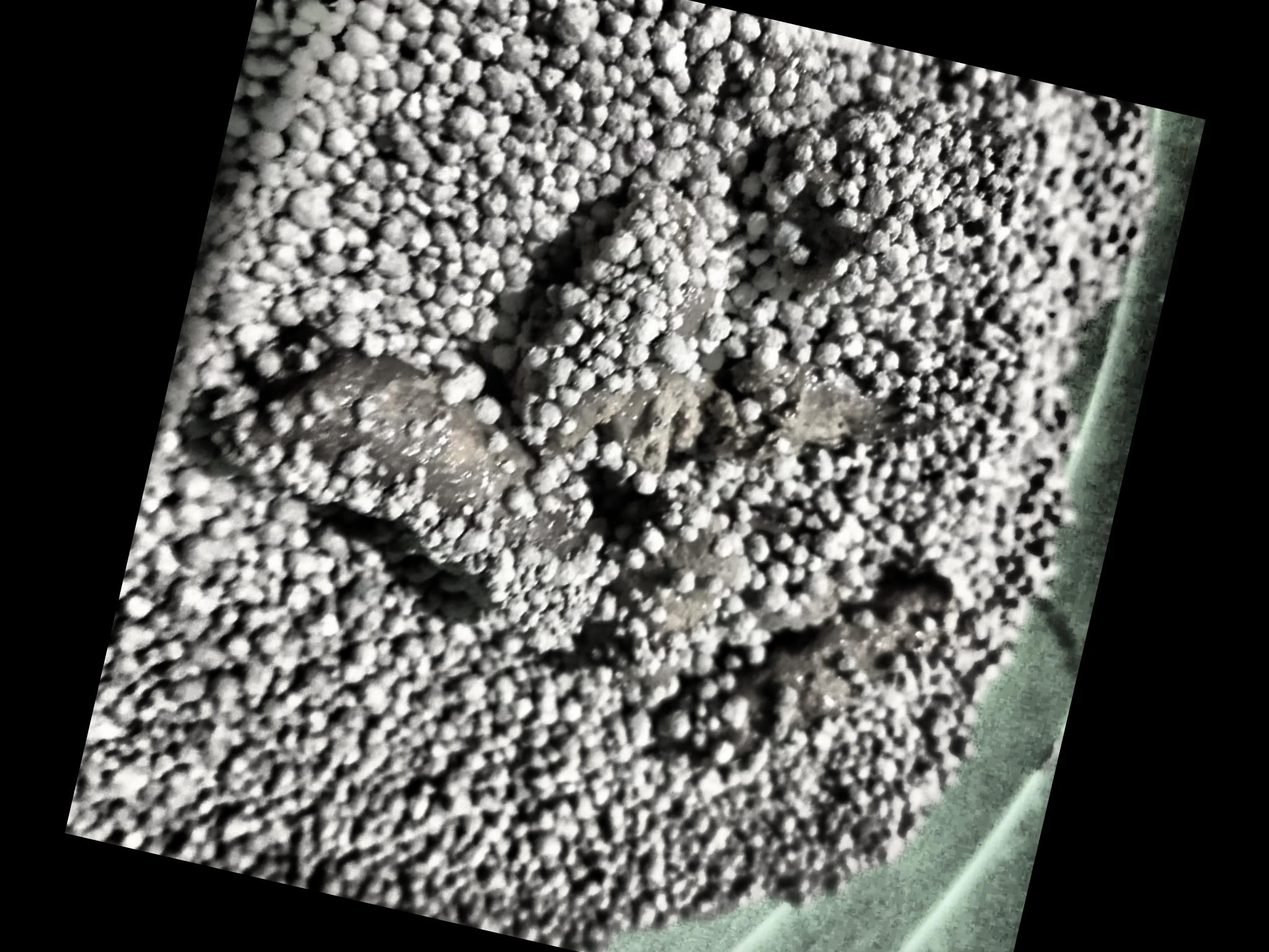poop: (211, 104, 1016, 763)
